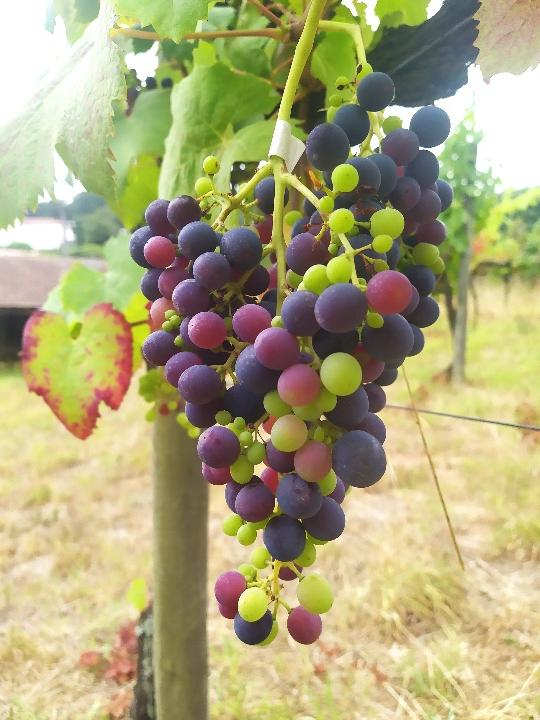grape: (125, 59, 458, 652)
